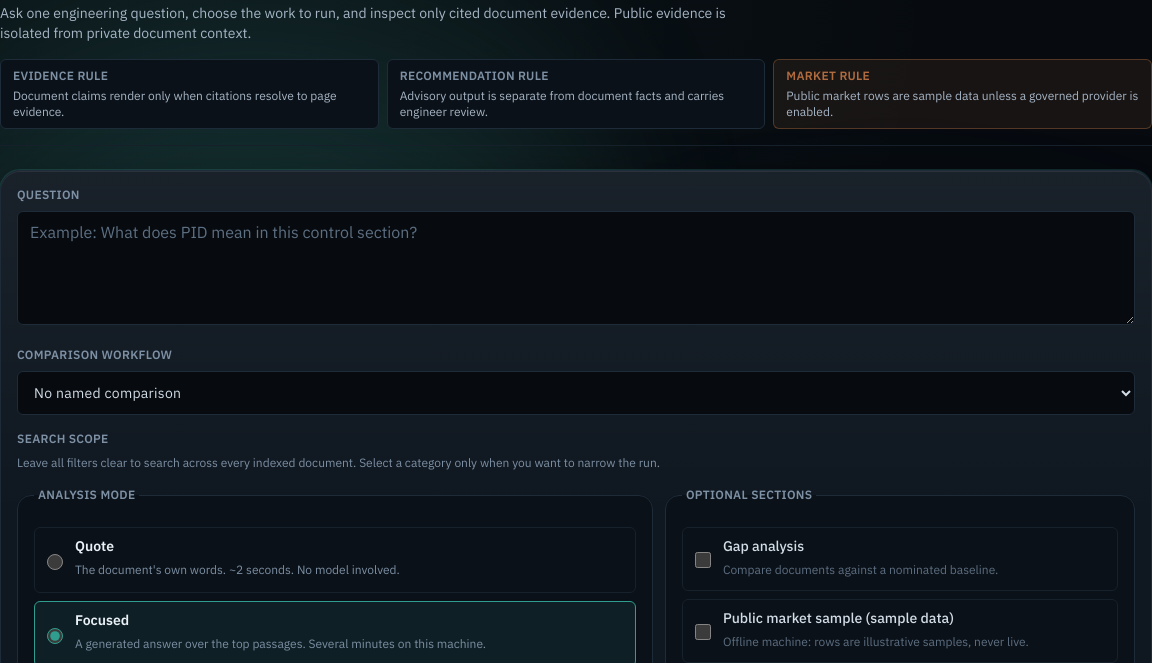
Test: AnalysisModeScreen: four states, four renderings › distinguishes a 503 gateway (nothing served it) from a served error
In the text box labelled "Question": point(576, 268) left=17, top=211, right=1135, bottom=325, type "what is the pressure floor"
(page scrolled)
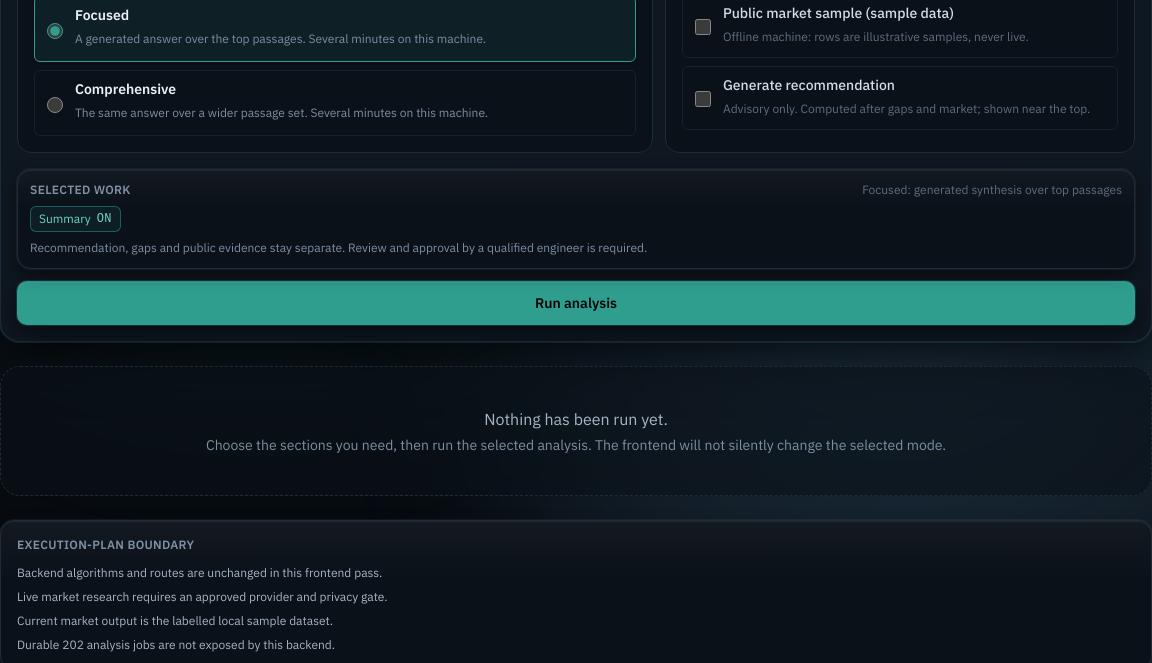
Click the button "Run analysis": point(576, 303) left=17, top=281, right=1135, bottom=325
(page scrolled)
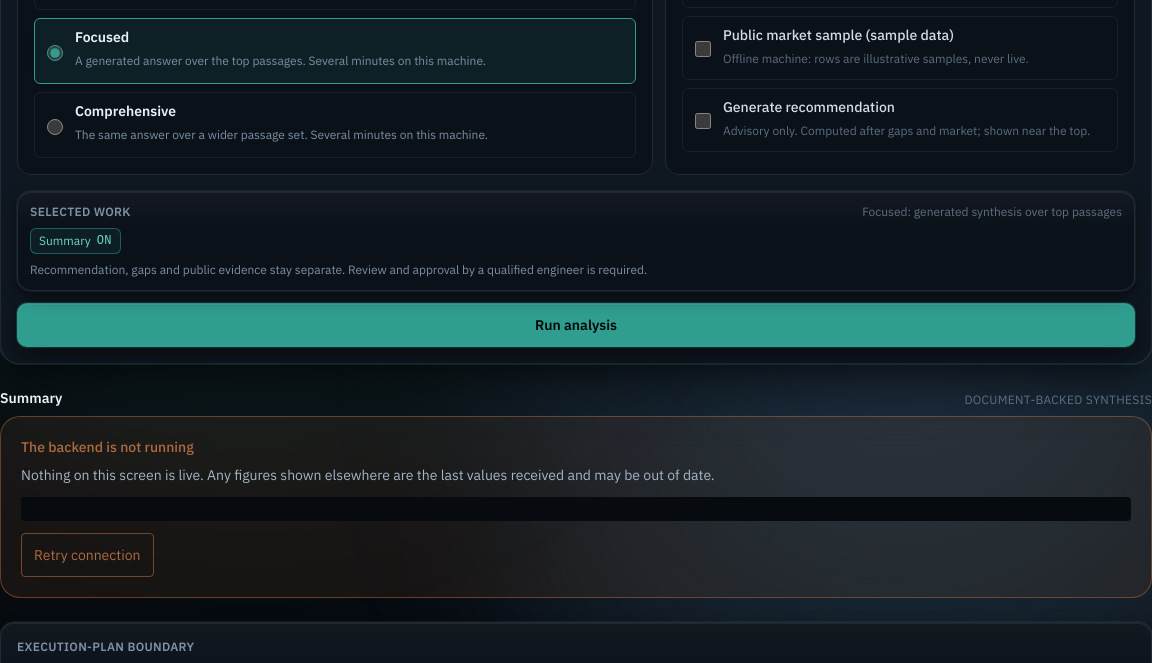
Expected: the text "The backend is not running" is shown, left=21, top=438, right=194, bottom=456
